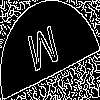M: (25, 24, 63, 82)
